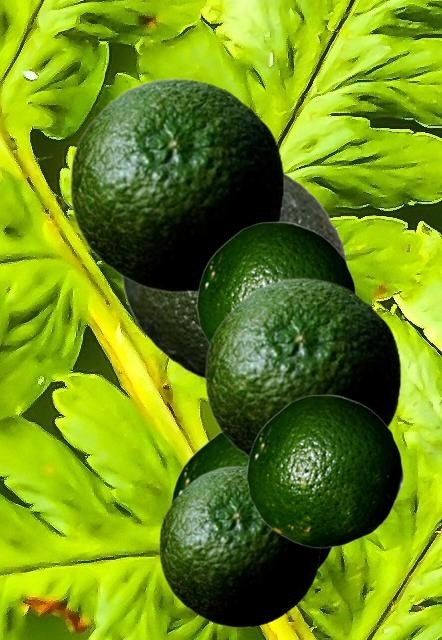calamansi: (121, 169, 348, 381), (69, 77, 283, 292), (204, 277, 400, 459), (158, 465, 319, 627), (246, 394, 403, 547), (169, 432, 334, 572), (196, 221, 357, 345)
